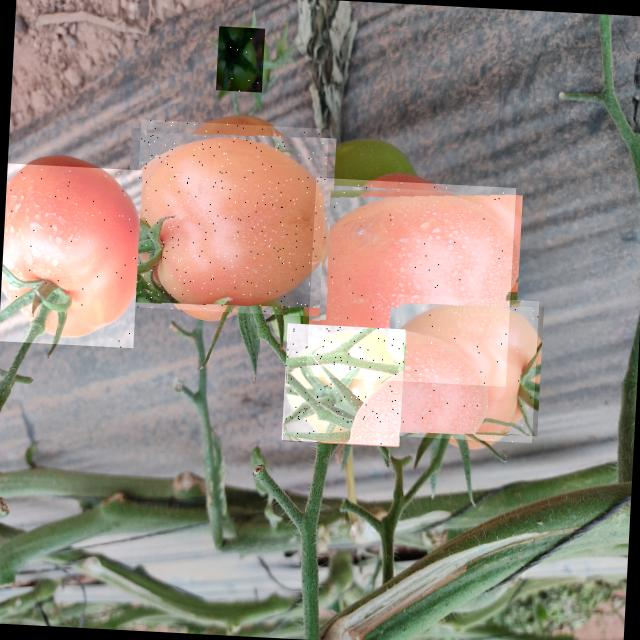Ripe Tomato: (306, 178, 516, 386), (131, 119, 329, 317), (0, 163, 142, 348), (390, 294, 539, 443)
Unripe Tomato: (282, 324, 406, 446), (216, 27, 265, 92)
